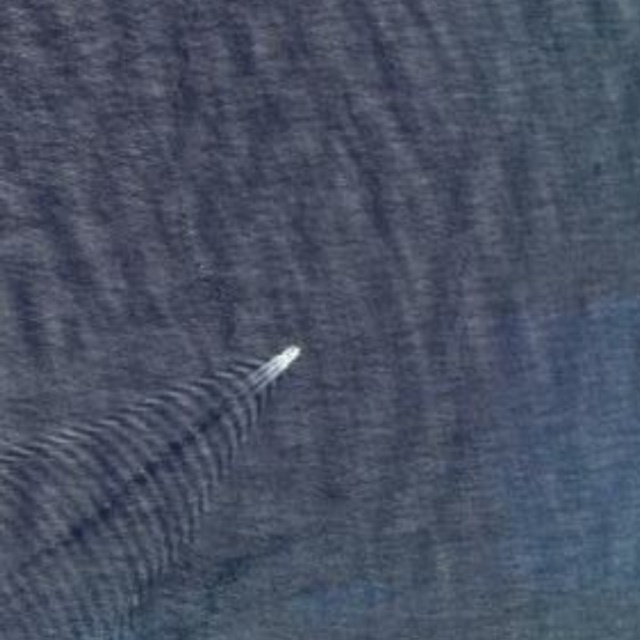wake: (9, 279, 357, 605)
